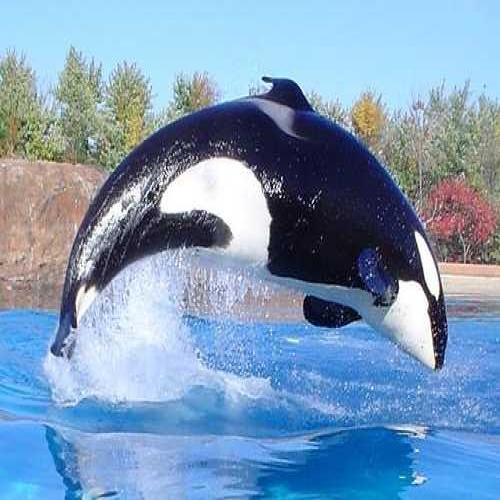killer_whale-endangered: (190, 70, 465, 396)
